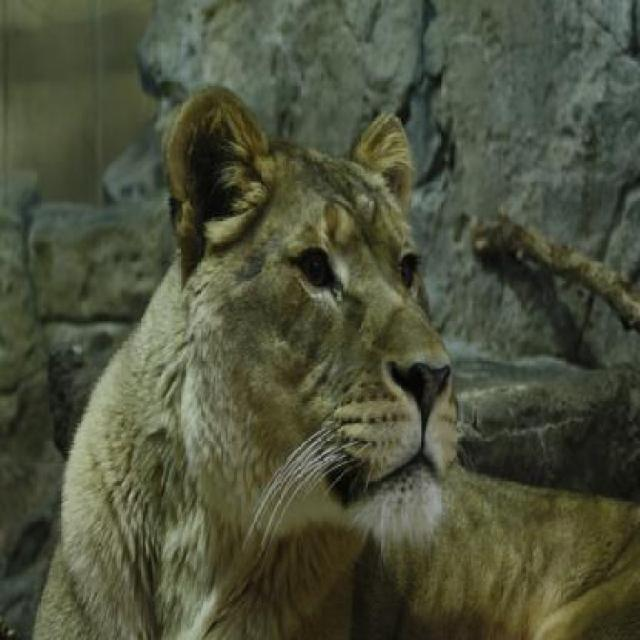Lion: (40, 57, 638, 638)
